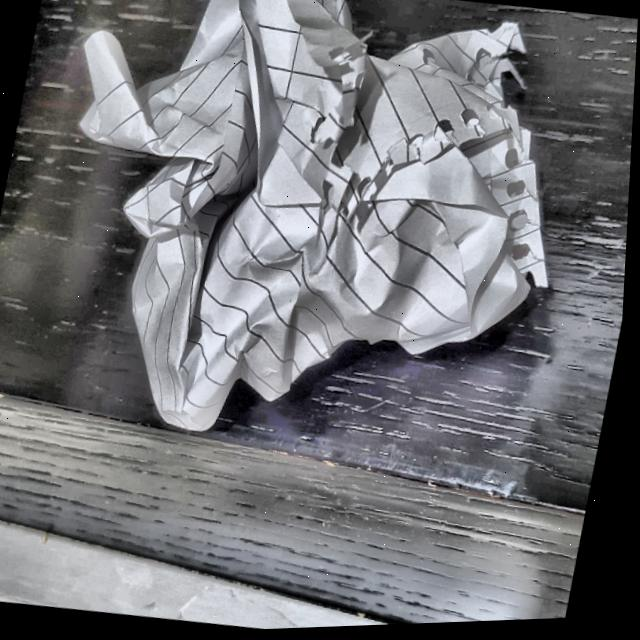paper: (25, 0, 567, 461)
